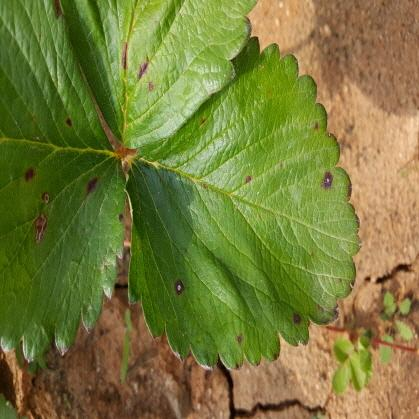Leaf Spot: (122, 36, 363, 369), (0, 0, 126, 363), (59, 0, 258, 151)
